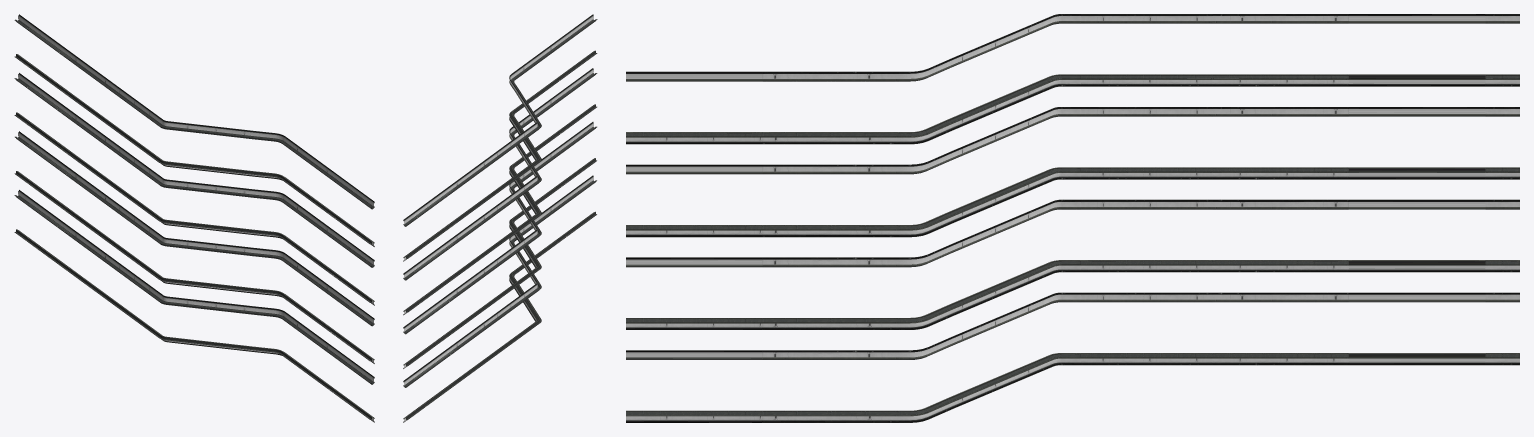
File: RearlFAC_Win07_Low.FBX
The picture shows the model from 3 angles, left to right: view 1: azimuth 30°, elevation 25°; view 2: azimuth 150°, elevation 25°; view 3: azimuth 270°, elevation 25°; orthographic projection. The views are drawn at different scales.
Parts seen in each view (by area): view 1: RearlFAC_Win07_Low; view 2: RearlFAC_Win07_Low; view 3: RearlFAC_Win07_Low.
Boxes of the visible parts, x1,y1,x2,y2 form: RearlFAC_Win07_Low: (14,14,374,422); RearlFAC_Win07_Low: (403,14,597,422); RearlFAC_Win07_Low: (626,14,1519,422).
Size of the model in its own units: 8.5 by 22.7 by 52.33.
